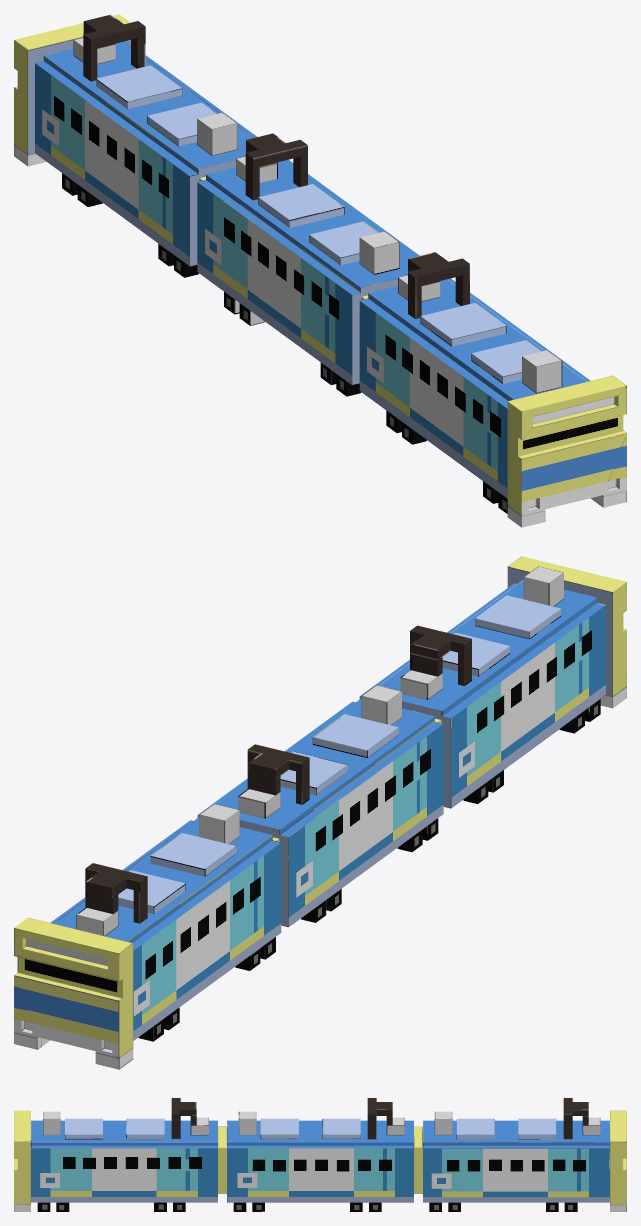
Rendered from Train.obj.
The picture shows the model from 3 angles, top to bottom: view 1: azimuth 30°, elevation 25°; view 2: azimuth 150°, elevation 25°; view 3: azimuth 270°, elevation 25°; orthographic projection. The views are drawn at different scales.
Visible parts, largest first — view 1: Body.030_Cube.029; view 2: Body.030_Cube.029; view 3: Body.030_Cube.029.
Part boxes in pixels (bbox=[...]): Body.030_Cube.029: bbox=[14, 14, 626, 527]; Body.030_Cube.029: bbox=[14, 556, 626, 1069]; Body.030_Cube.029: bbox=[14, 1098, 626, 1211].
Size of the model in its own units: 5.78 by 8 by 48.21.
